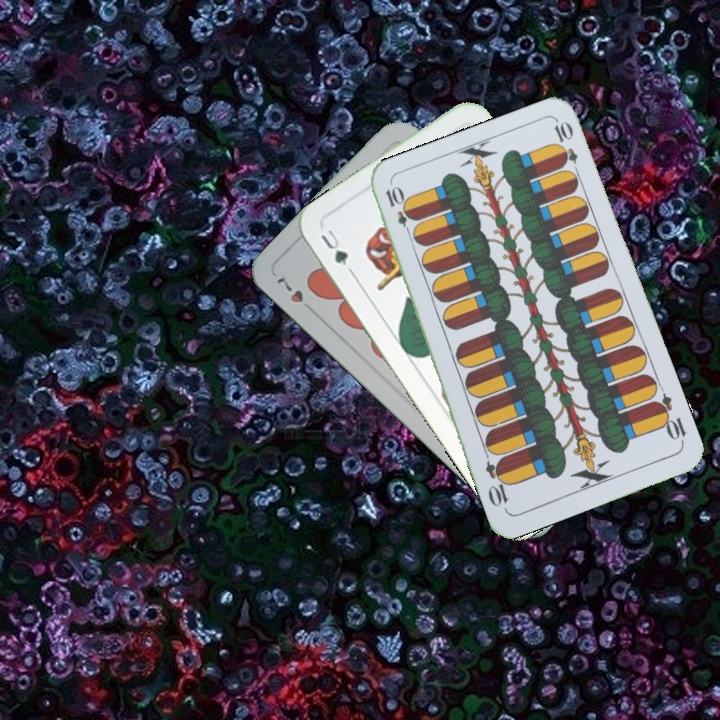E10: (649, 390, 689, 447), (381, 182, 416, 240)
GU: (316, 225, 351, 269)
H7: (272, 271, 306, 306)
